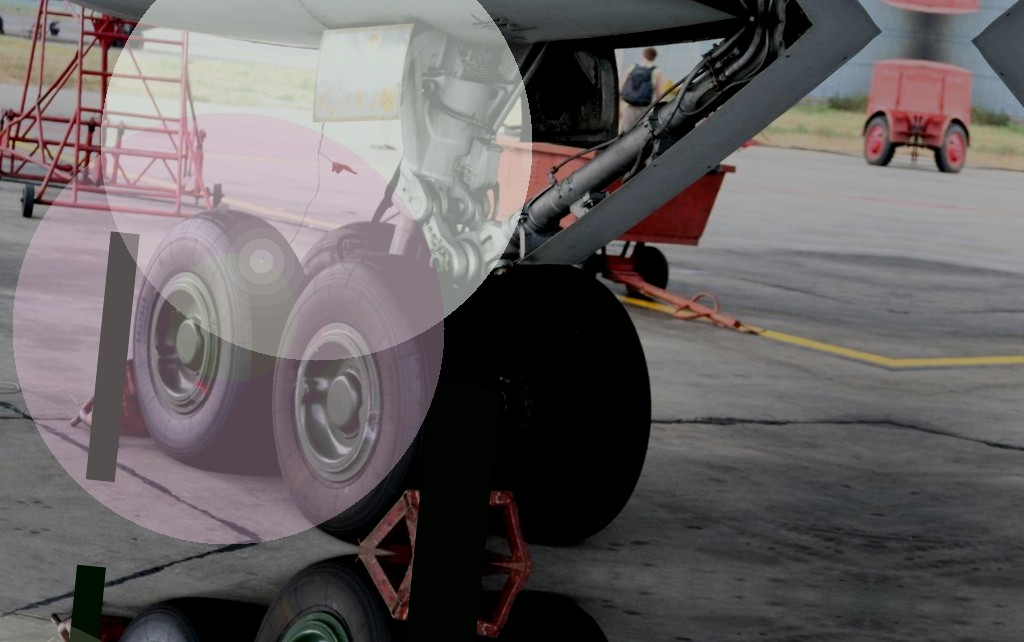chock: (356, 471, 542, 566), (347, 552, 534, 642), (65, 353, 157, 451), (41, 597, 132, 642)
wheel: (252, 242, 506, 554), (448, 258, 667, 549), (118, 200, 303, 476), (221, 548, 475, 642), (300, 215, 401, 282)
